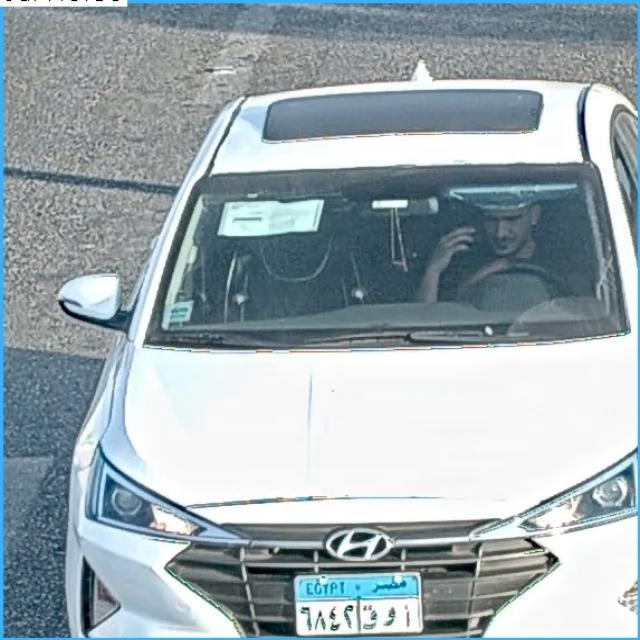windshield: (158, 168, 618, 335)
